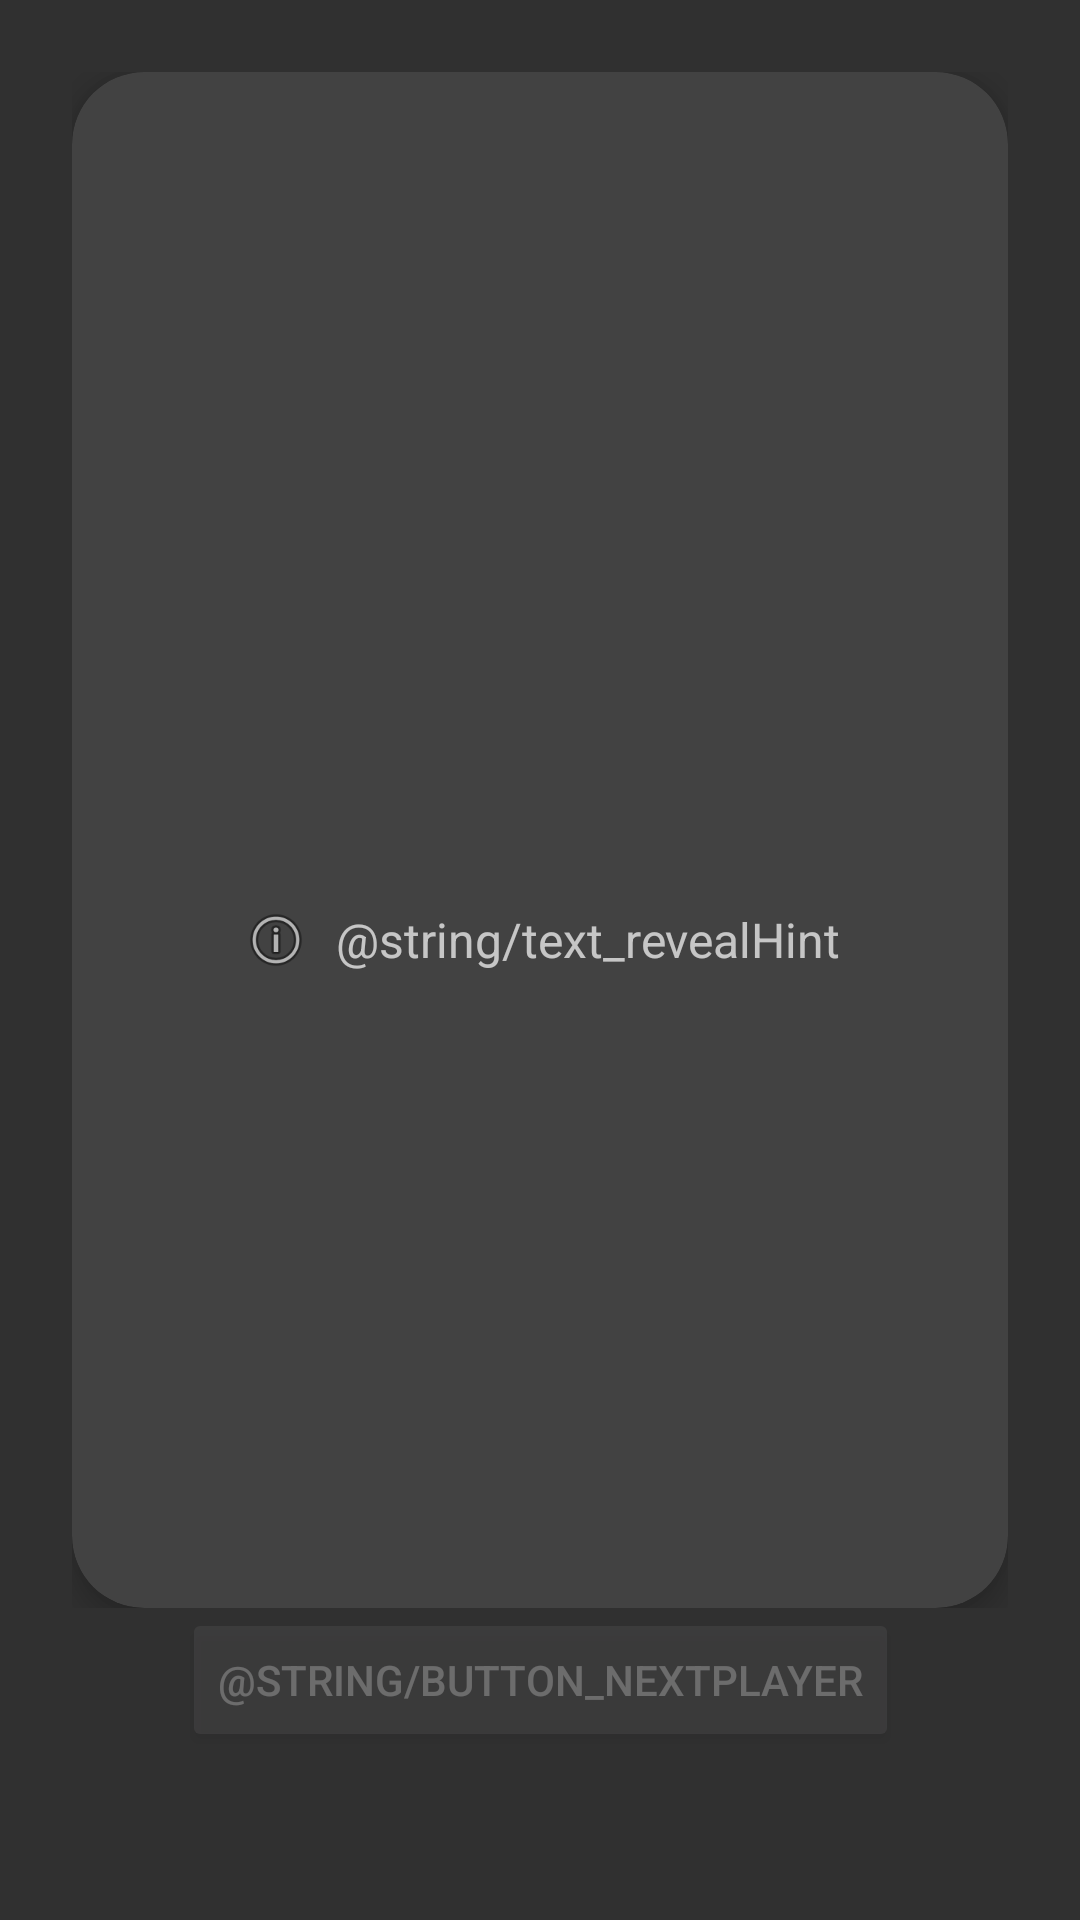

Icon bounding boxes for this 1080*1920 phone screenshot, format (x1, y1, x2, y2):
info details: (251, 915, 301, 965)
